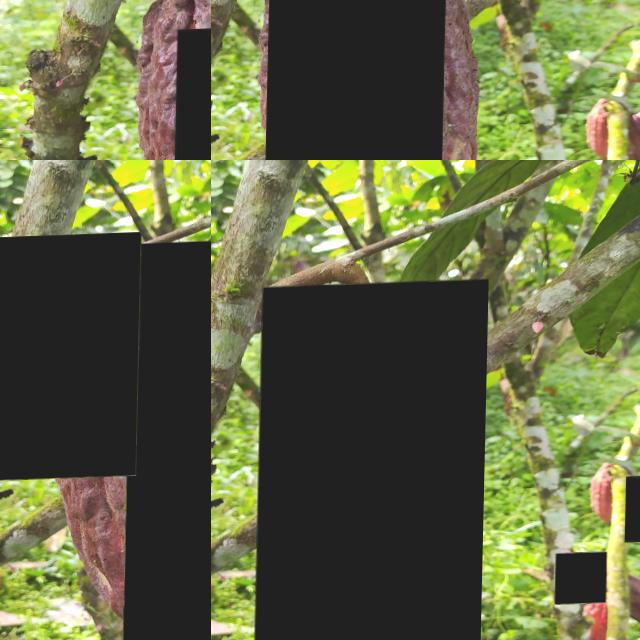Fitoftora: (0, 234, 142, 485), (264, 0, 447, 160)
Monilia: (124, 277, 211, 640)
Sana: (256, 282, 488, 640), (91, 243, 211, 358), (175, 29, 211, 160), (71, 160, 133, 220), (558, 556, 609, 609), (607, 572, 640, 636), (591, 468, 621, 532), (570, 599, 611, 640), (626, 479, 640, 547)
